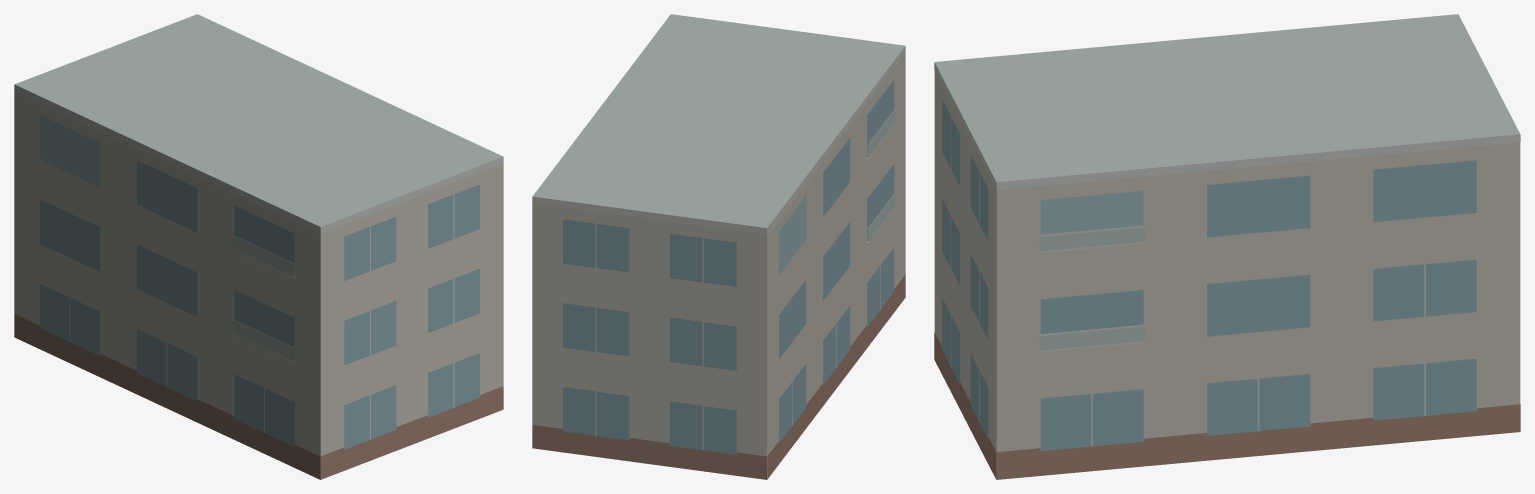
Rendered from survey-upis-32698522.glb.
3 views of the same model, side by side, from view 1: azimuth 30°, elevation 25°; view 2: azimuth 150°, elevation 25°; view 3: azimuth 270°, elevation 25° (orthographic). The views are drawn at different scales.
Parts seen in each view (by area): view 1: survey-upis-32698522.tmp; view 2: survey-upis-32698522.tmp; view 3: survey-upis-32698522.tmp.
Boxes of the visible parts, bbox=[...] form: survey-upis-32698522.tmp: bbox=[14, 14, 503, 479]; survey-upis-32698522.tmp: bbox=[532, 14, 905, 479]; survey-upis-32698522.tmp: bbox=[934, 14, 1520, 479].
Bounding box in the file's own units: 11.1 × 9.15 × 16.34.
